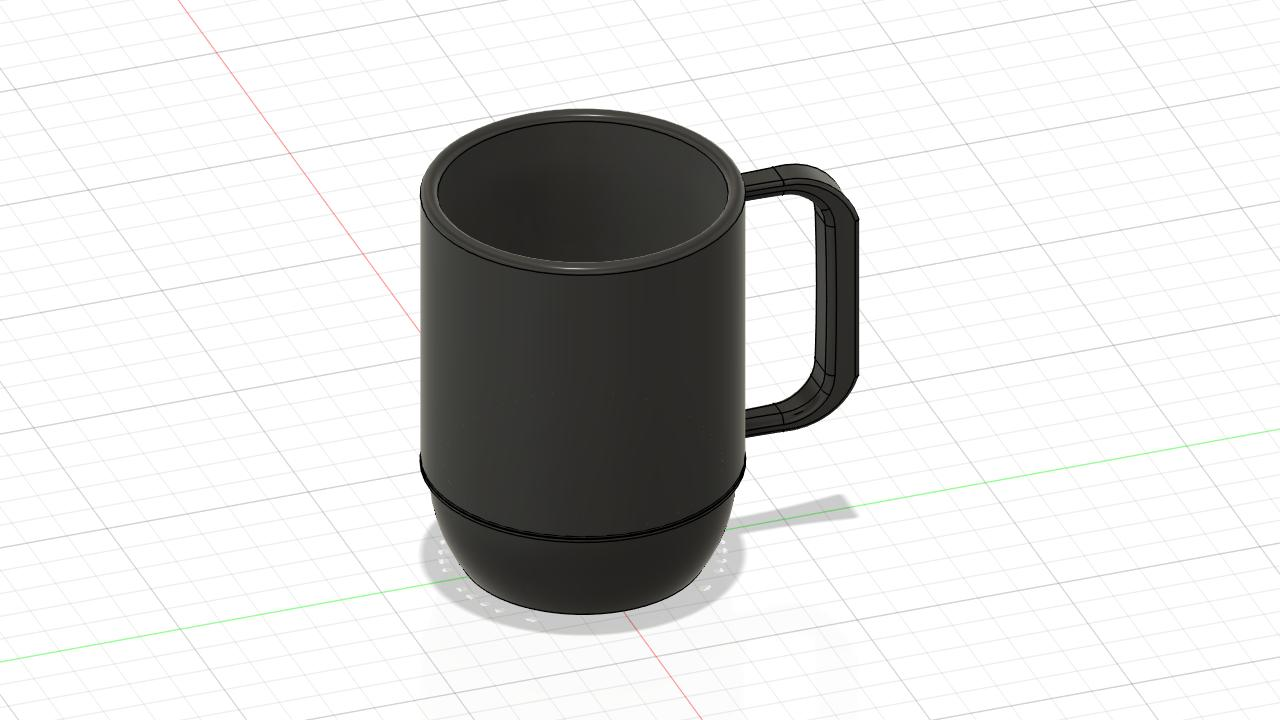mug-real100-3d100: (420, 110, 858, 612)
